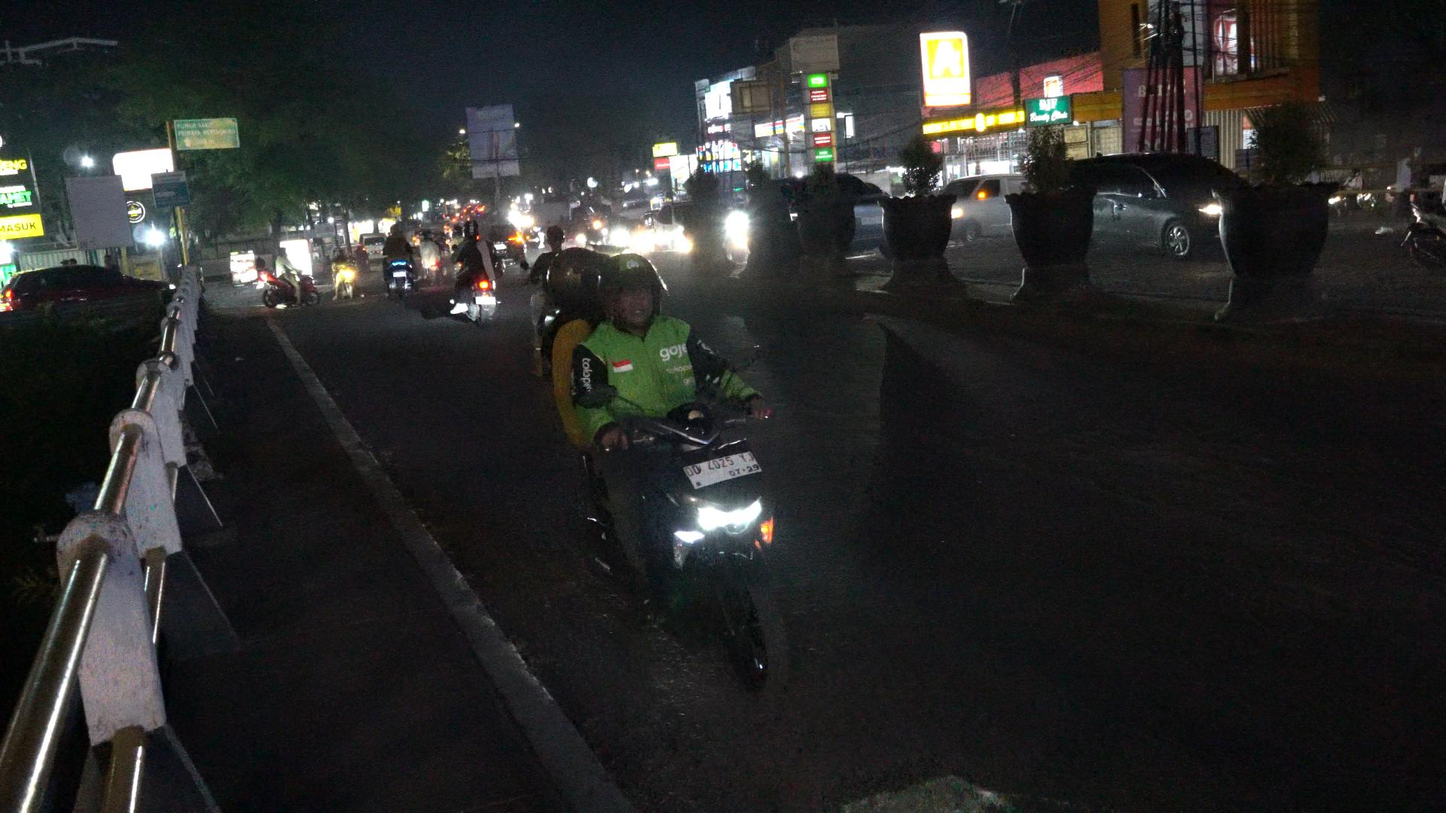number-plate: (676, 449, 768, 491)
